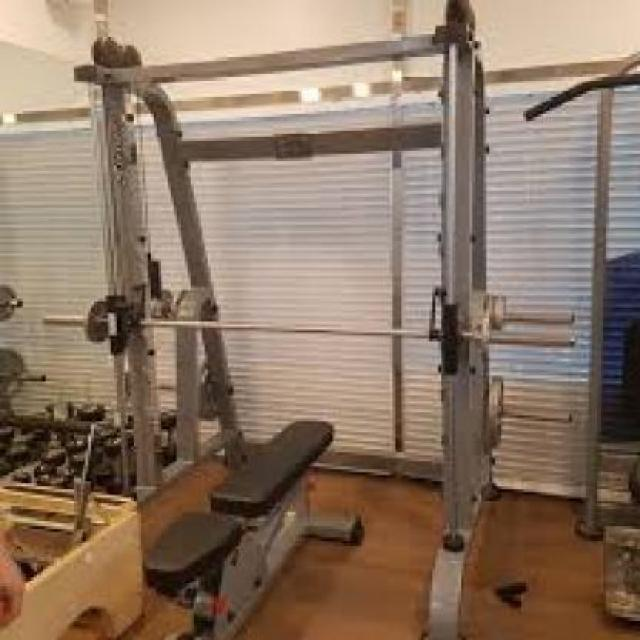smith machine: (72, 31, 522, 640)
